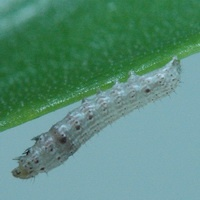insect: (12, 56, 179, 178)
